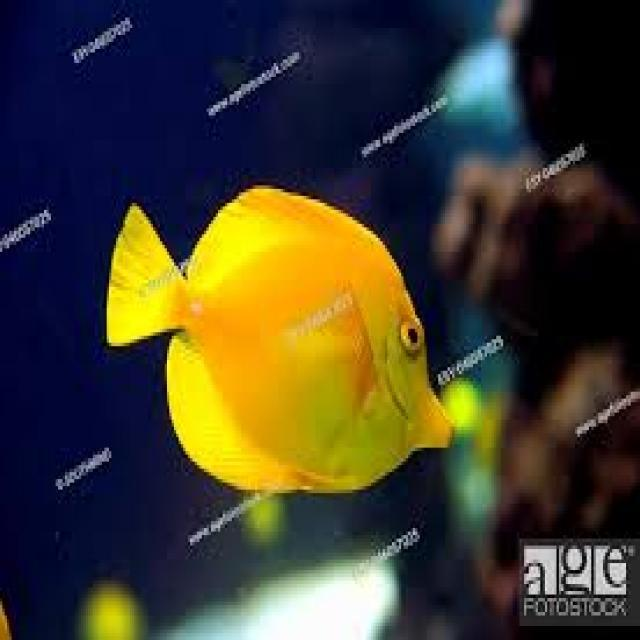YellowTang: (102, 165, 466, 516)
